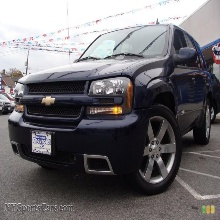no damage: (8, 23, 220, 193), (1, 92, 10, 114)
